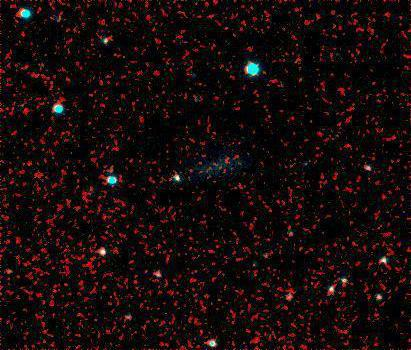star: (90, 25, 120, 55)
